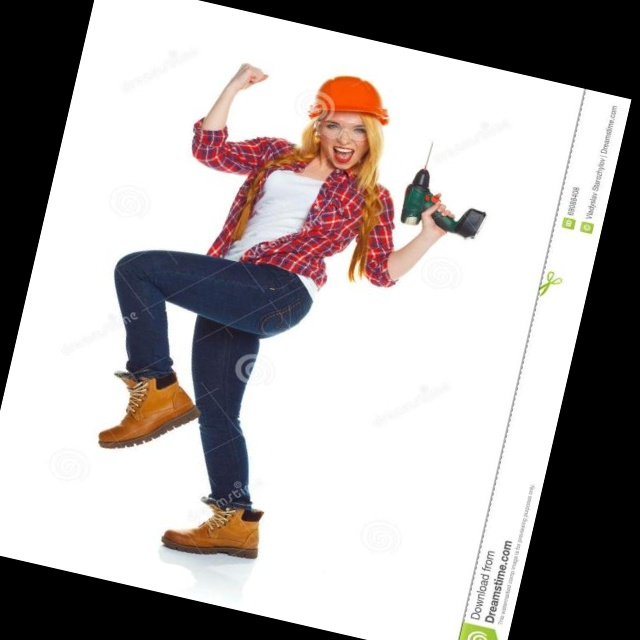Con_Casco: (299, 68, 393, 176)
